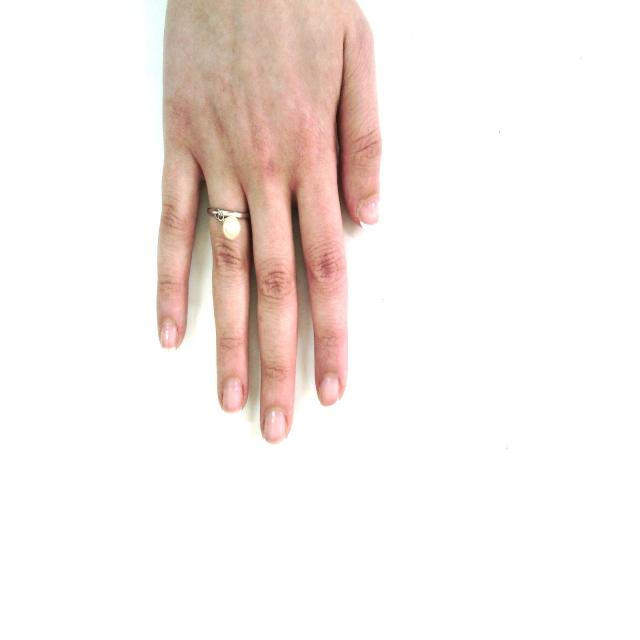Nail: (263, 410, 287, 444), (357, 194, 380, 224), (318, 375, 340, 406), (222, 379, 242, 413), (159, 321, 178, 349)
